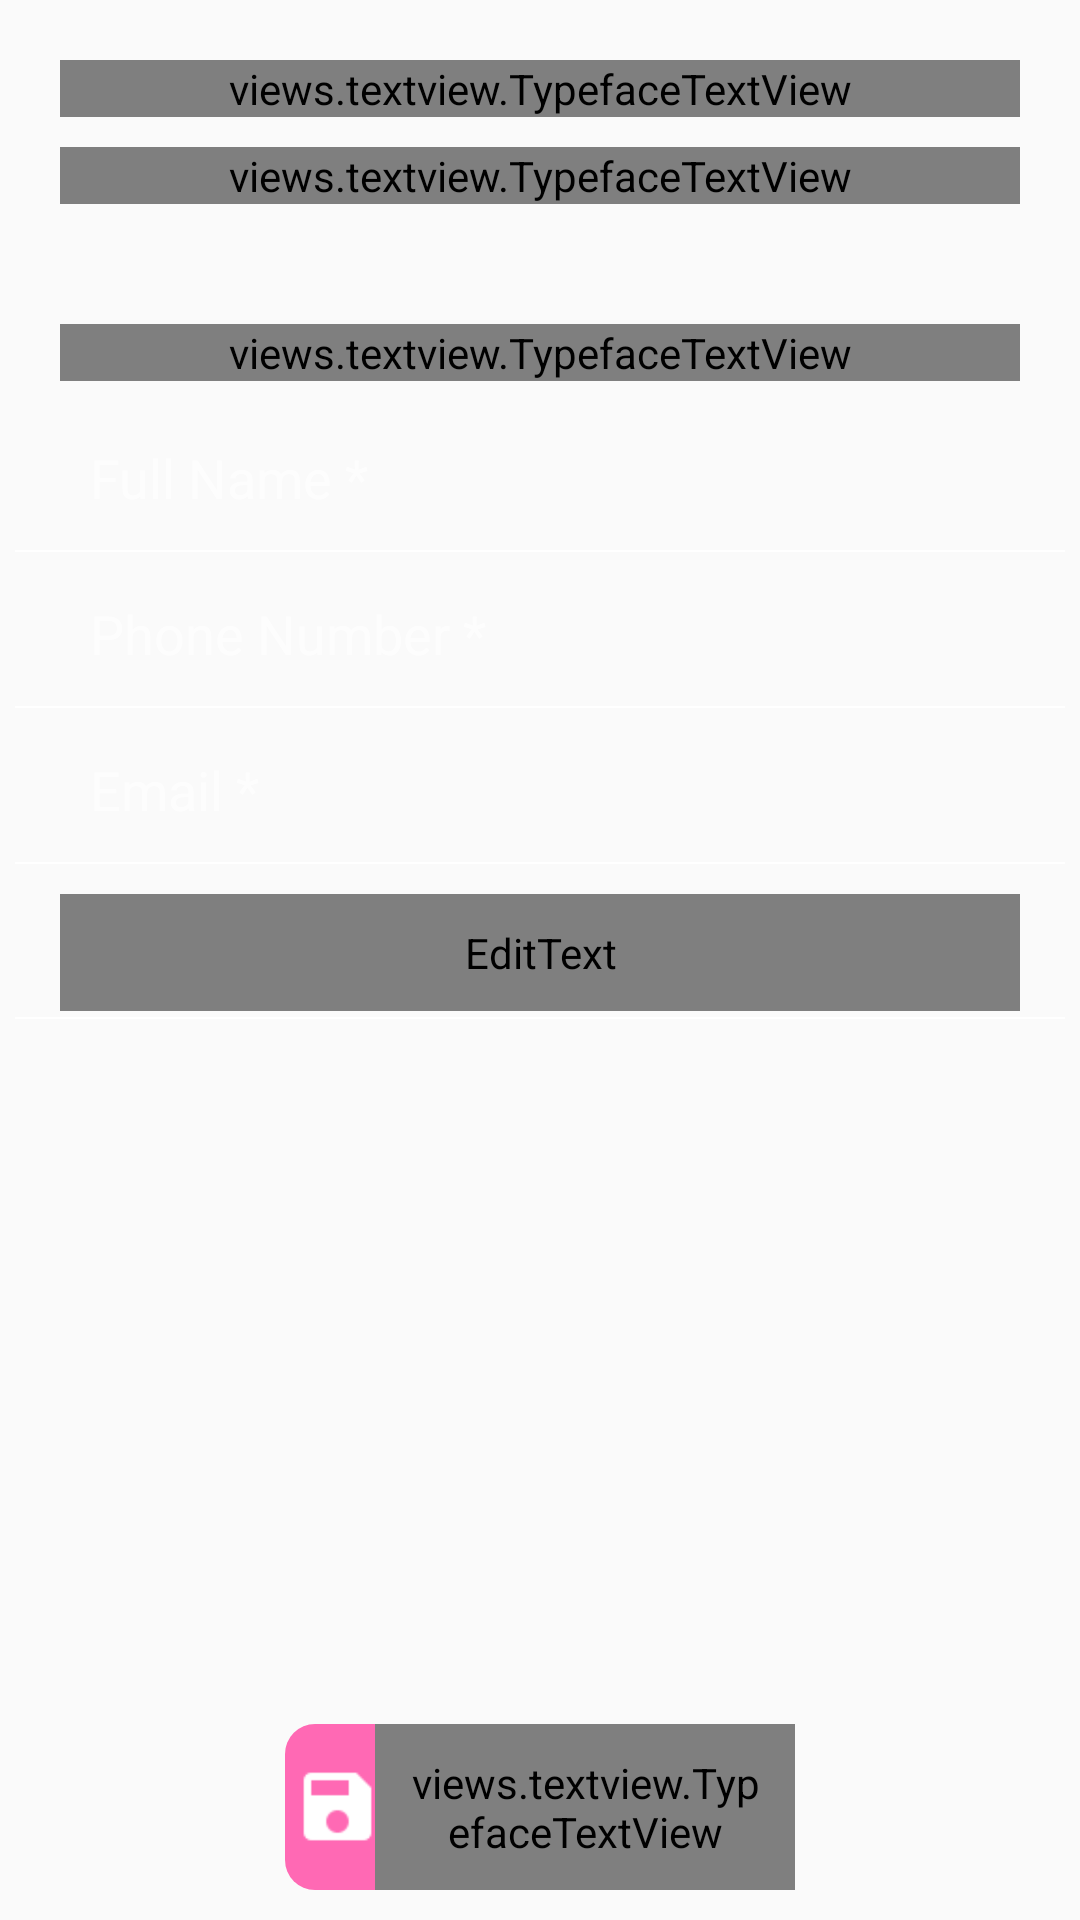

Locate icon controls on the screen. Image size 1080x1920, boxes as (x1, y1, x2, y2).
save: (303, 1772, 372, 1841)
